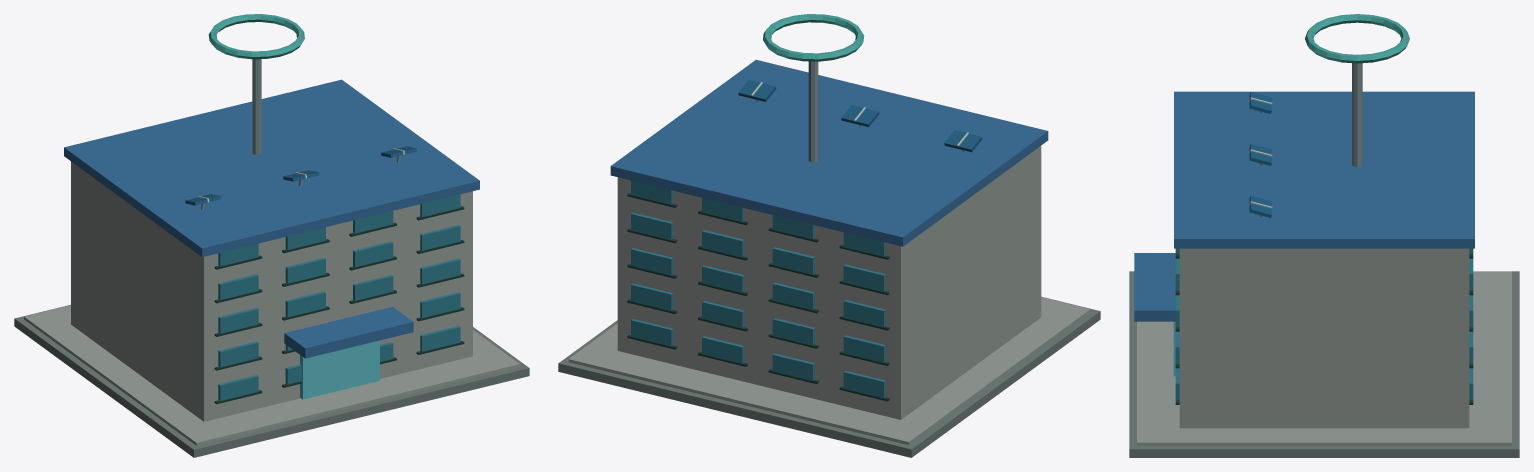
The model's file is security_hub_lv3.glb.
3 views of the same model, side by side, from view 1: azimuth 30°, elevation 25°; view 2: azimuth 150°, elevation 25°; view 3: azimuth 270°, elevation 25° (orthographic). The views are drawn at different scales.
Visible parts, largest first — view 1: rough, glossy, metallic; view 2: rough, glossy, metallic; view 3: rough, metallic, glossy.
Boxes of the visible parts, x1,y1,x2,y2 form: rough: [14, 14, 529, 457]; glossy: [218, 194, 460, 400]; metallic: [185, 59, 417, 210]; rough: [558, 14, 1100, 457]; glossy: [631, 180, 885, 397]; metallic: [738, 61, 982, 162]; rough: [1129, 14, 1519, 457]; metallic: [1249, 63, 1362, 217]; glossy: [1173, 248, 1473, 400].
Bounding box in the file's own units: 9.6 × 8.39 × 8.9.
